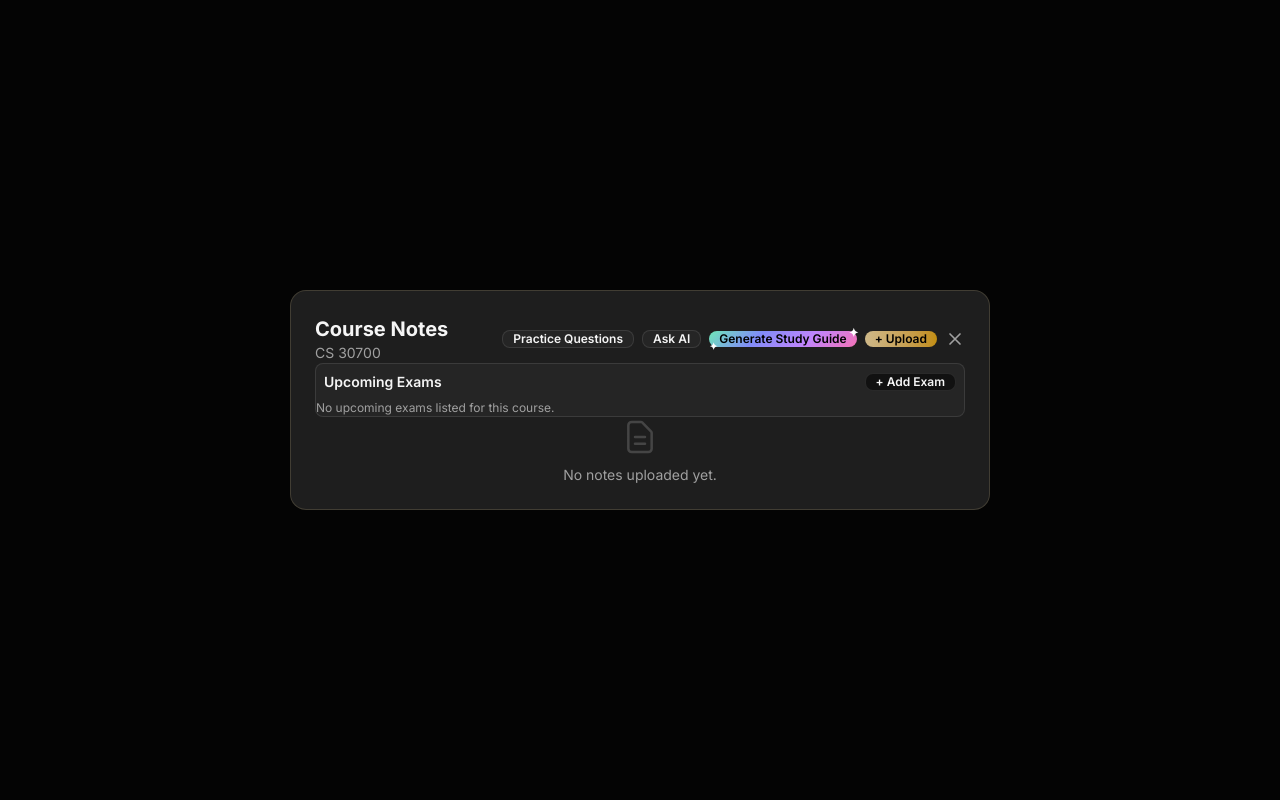
CourseNotes — Upload Form Toggle › hides upload form when cancel is clicked
What coordinates should you click on to do the following:
click the button "+ Upload"
I would click on:
 (901, 339)
Its box is [865,331,937,347].
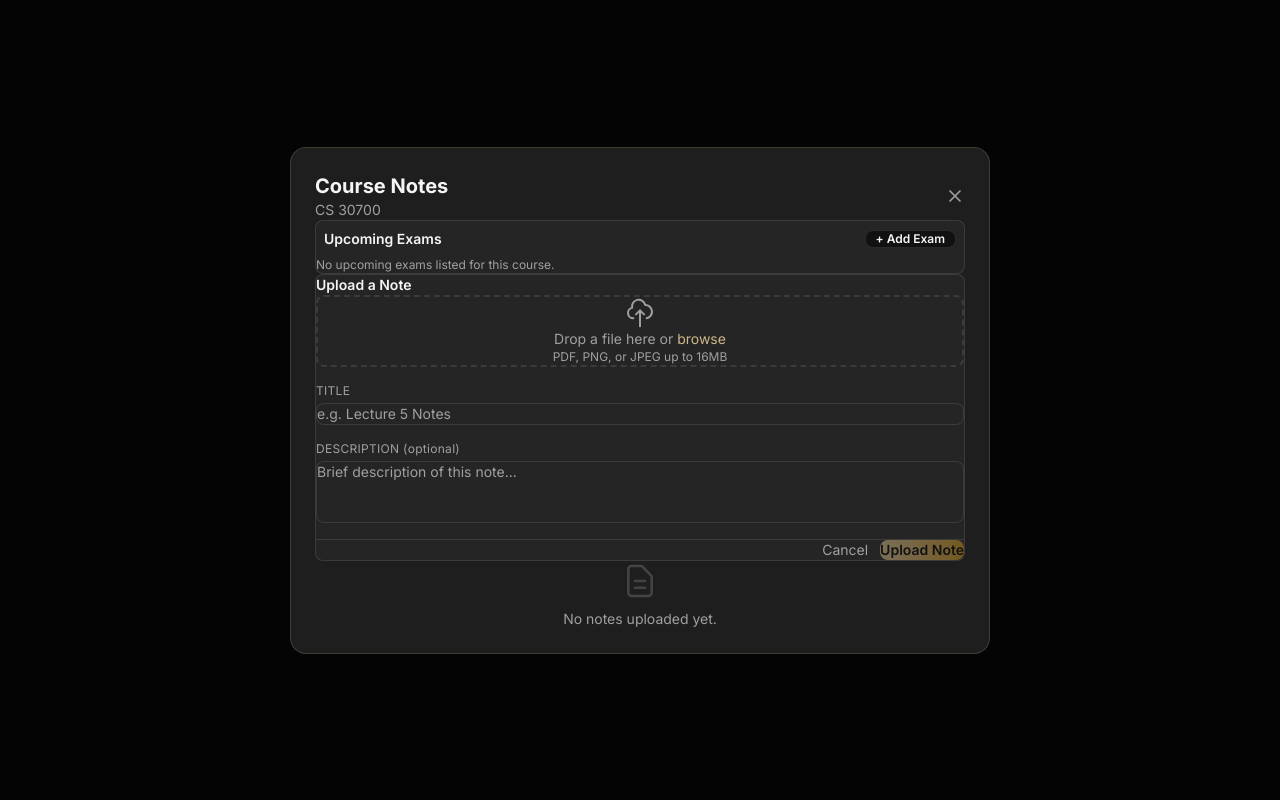
expect the heading "Upload a Note" is shown: met, box [316,276,412,292]
What coordinates should you click on to do the following:
click the button "Cancel"
I would click on:
 (845, 550)
Its box is [822,540,868,560].
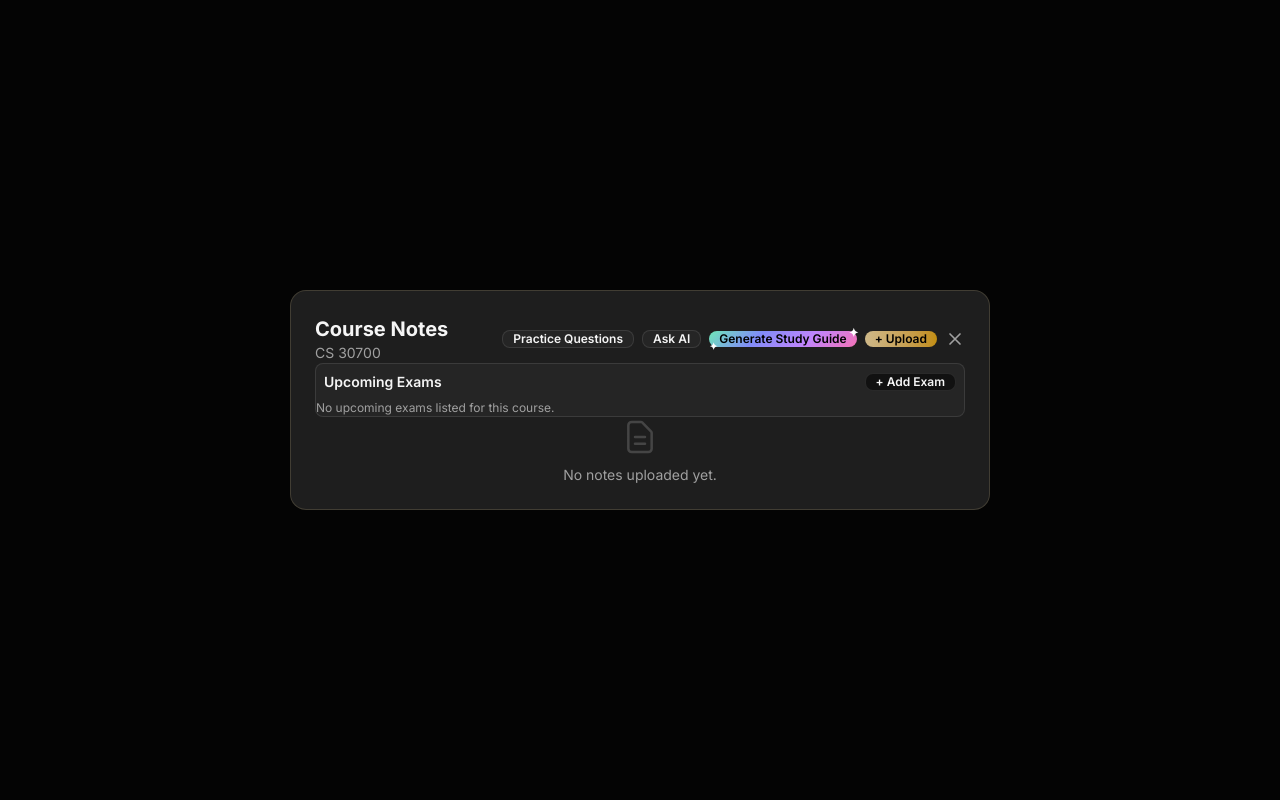
expect the heading "Upload a Note" is gone: met
expect the button "+ Upload" is shown: met, box [865,331,937,347]
